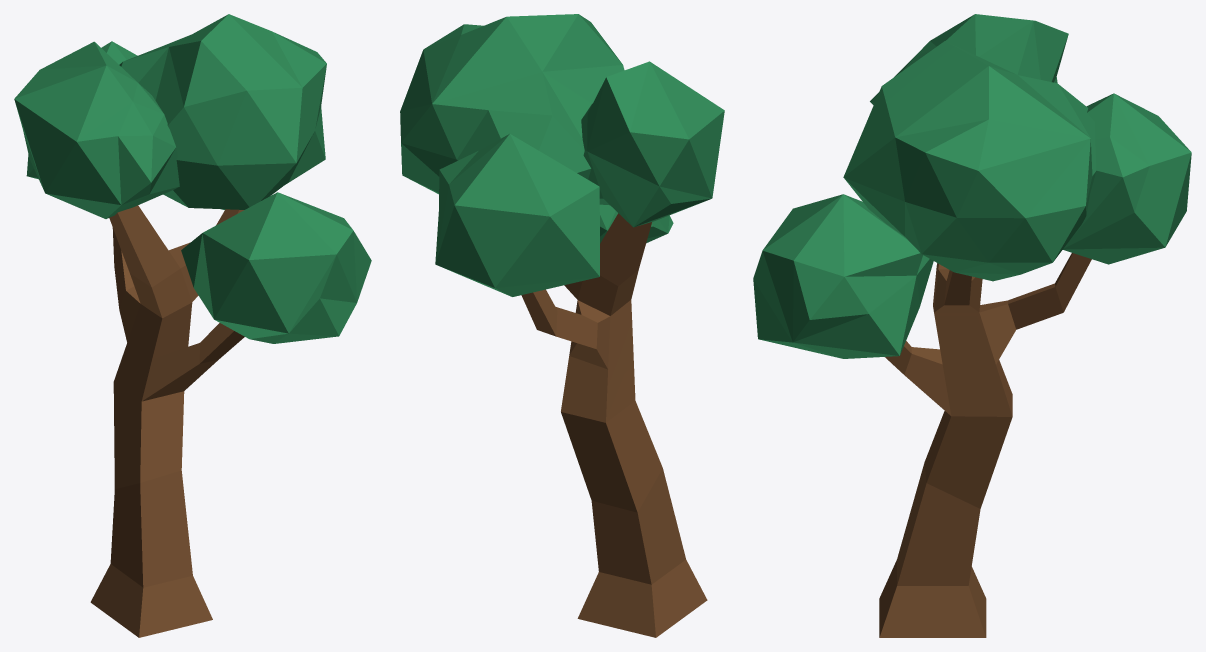
File: low-poly-tree-3.glb
3 views of the same model, side by side, from view 1: azimuth 30°, elevation 25°; view 2: azimuth 150°, elevation 25°; view 3: azimuth 270°, elevation 25° (orthographic). The views are drawn at different scales.
Visible parts, largest first — view 1: low-poly-tree-3; view 2: low-poly-tree-3; view 3: low-poly-tree-3.
Boxes of the visible parts, x1,y1,x2,y2 form: low-poly-tree-3: (14,14,371,637); low-poly-tree-3: (400,14,724,637); low-poly-tree-3: (753,14,1191,637).
Size of the model in its own units: 2.47 by 4.7 by 3.08.
